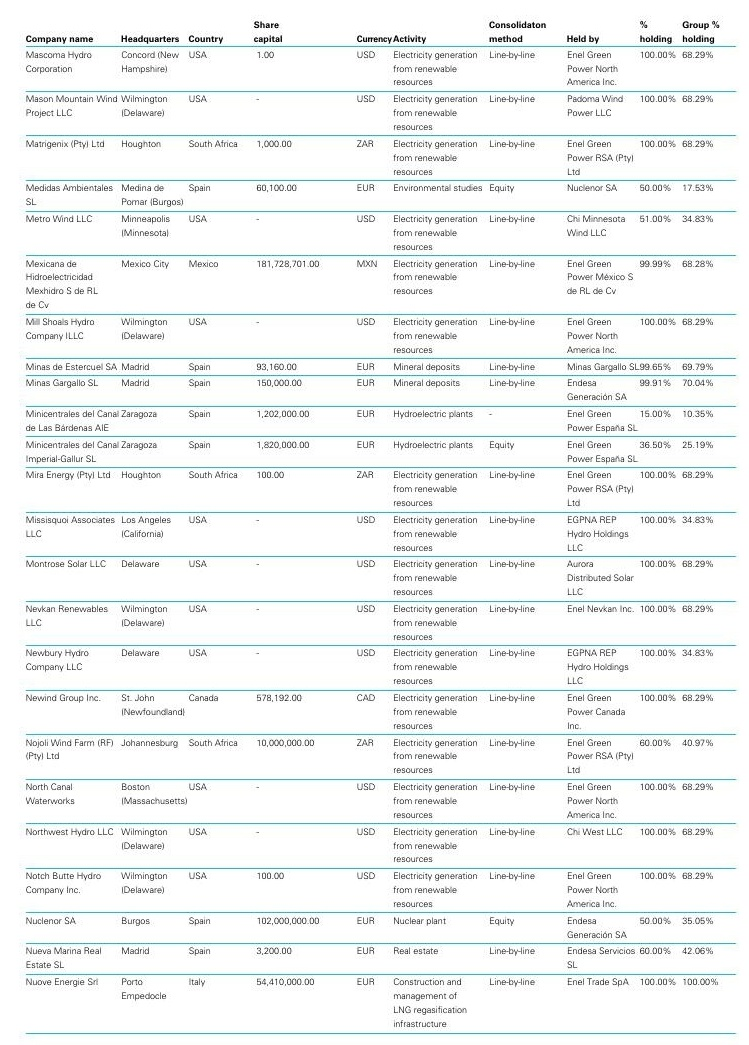table: (0, 0, 749, 1045)
